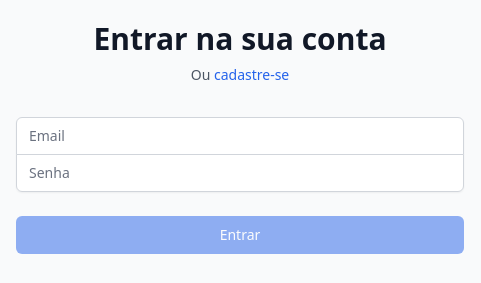
Test case: LoginForm Component › Form Validation › should show email validation error
Type "invalid-email" into the field labelled "Email" at (240, 136), box [16,116,464,154]
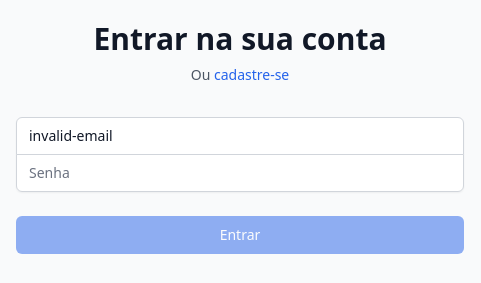
Leave the field named "Email", box [16,116,464,154]
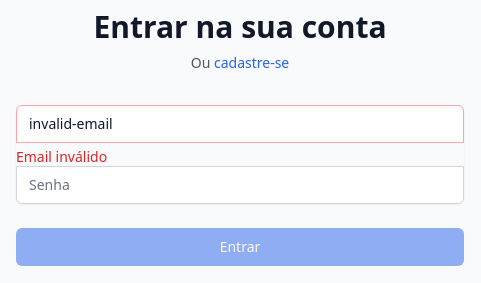
Now the text "Email inválido" is shown, box [16,146,107,166]
